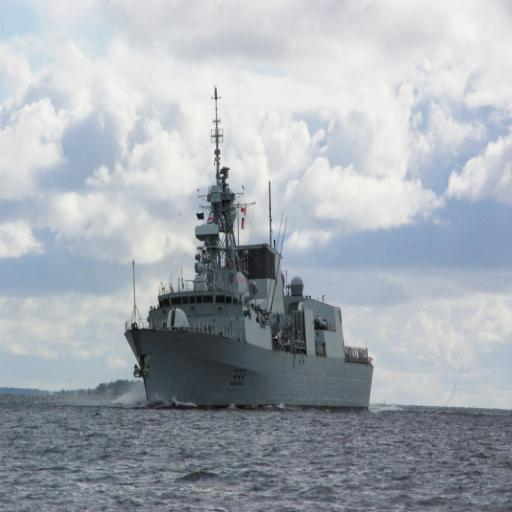Fragata: (125, 80, 377, 412)
